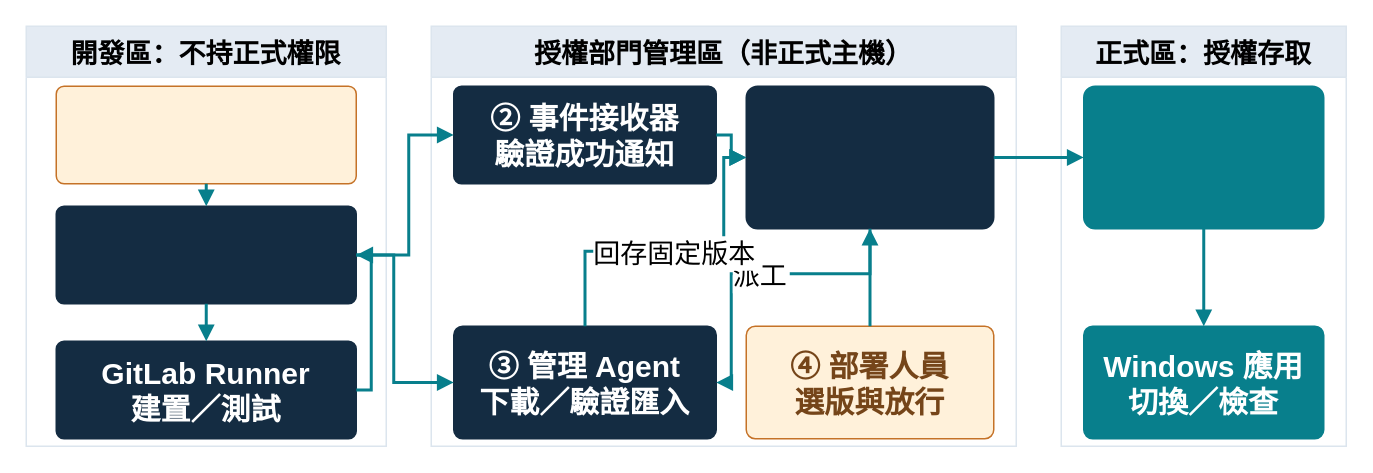
Some shapes in this 1373 by 473 pixel diagram are drawn without their labels. The centre of each missing label's shape, as x and y in pixels:
ADO Server 排程／存版本 管理 Release: pixel 869 157
GitLab CE 派工／保存產物: pixel 205 254
① 開發人員 推送程式碼: pixel 205 134
⑤ 部署 Agent 取得授權工作 下載指定版本: pixel 1203 157
